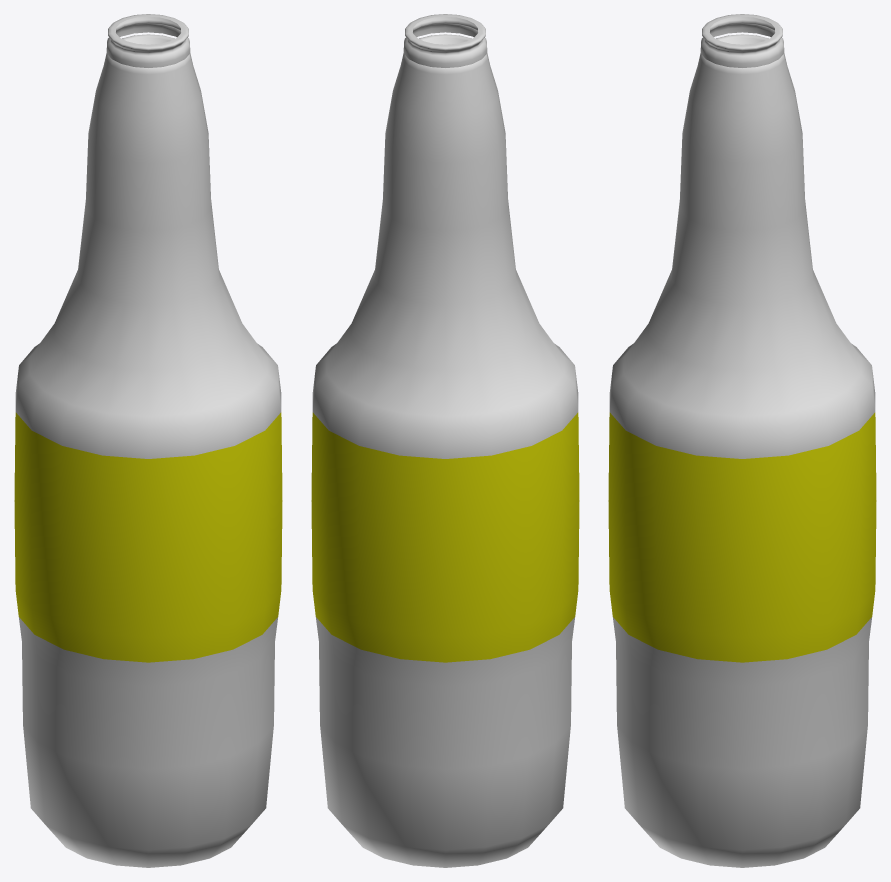
The model's file is adam beer bottle.fbx.
3 renders of one model, left to right at view 1: azimuth 30°, elevation 25°; view 2: azimuth 150°, elevation 25°; view 3: azimuth 270°, elevation 25°, orthographic.
Parts seen in each view (by area): view 1: Cylinder001; view 2: Cylinder001; view 3: Cylinder001.
Part boxes in pixels (box(x1,y1,x2,y2)): Cylinder001: box(14, 14, 282, 867); Cylinder001: box(311, 14, 579, 867); Cylinder001: box(608, 14, 876, 867).
Size of the model in its own units: 38.8 by 126 by 38.25.
